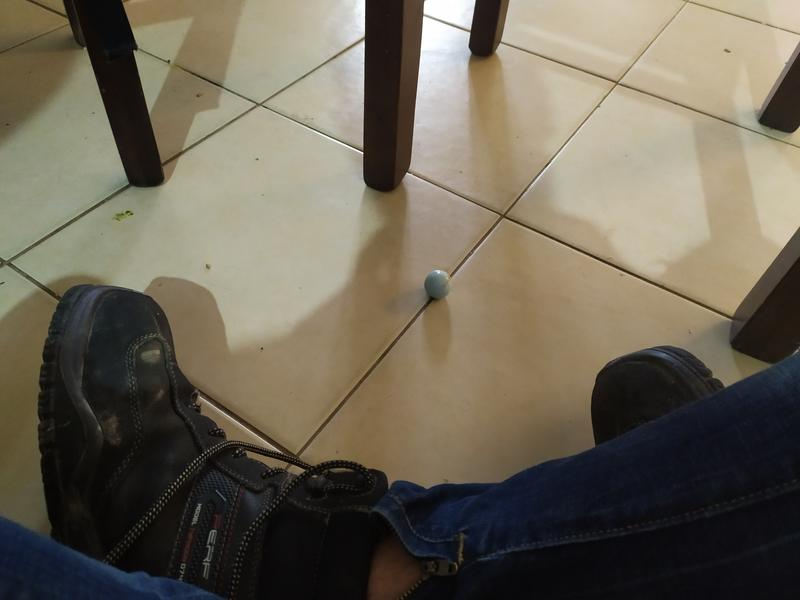Warning: (423, 267, 455, 301)
